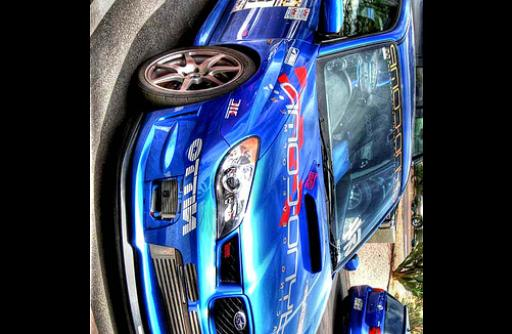Cheetah: (89, 0, 420, 334)
